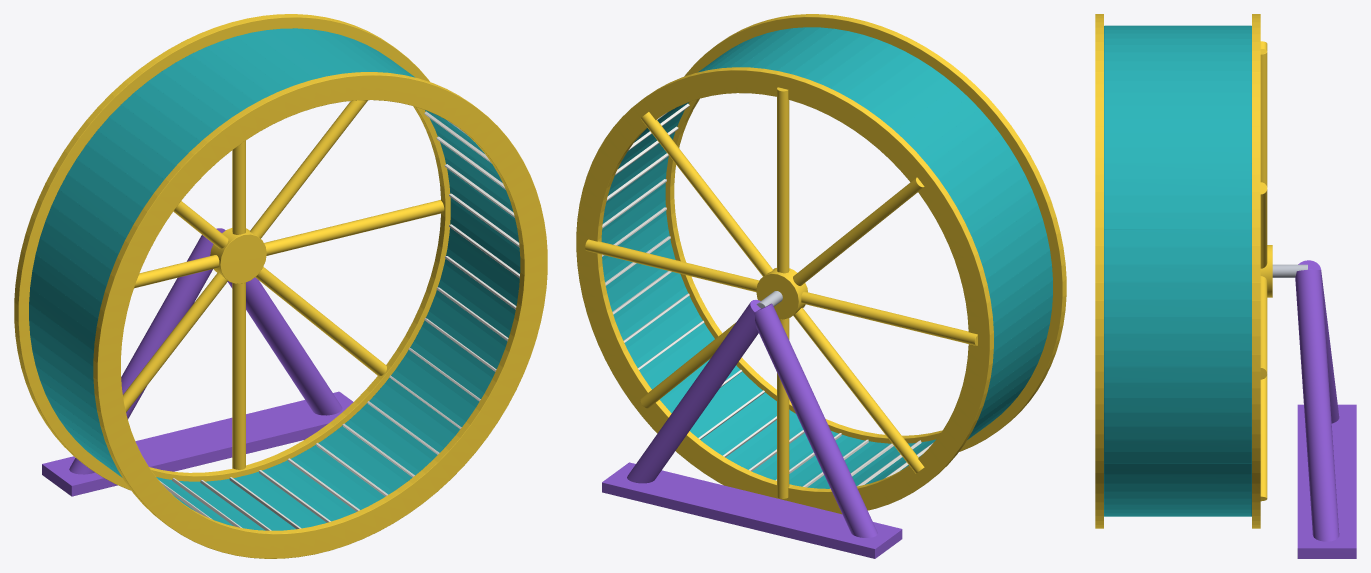
The model's file is wheel.glb.
3 views of the same model, side by side, from view 1: azimuth 30°, elevation 25°; view 2: azimuth 150°, elevation 25°; view 3: azimuth 270°, elevation 25° (orthographic). The views are drawn at different scales.
Parts seen in each view (by area): view 1: wheel.001; view 2: wheel.001; view 3: wheel.001.
Part boxes in pixels (<box>): wheel.001: <box>14,14,547,558</box>; wheel.001: <box>576,14,1066,558</box>; wheel.001: <box>1095,14,1356,558</box>.
Bounding box in the file's own units: 34.8 × 34.8 × 17.7.
